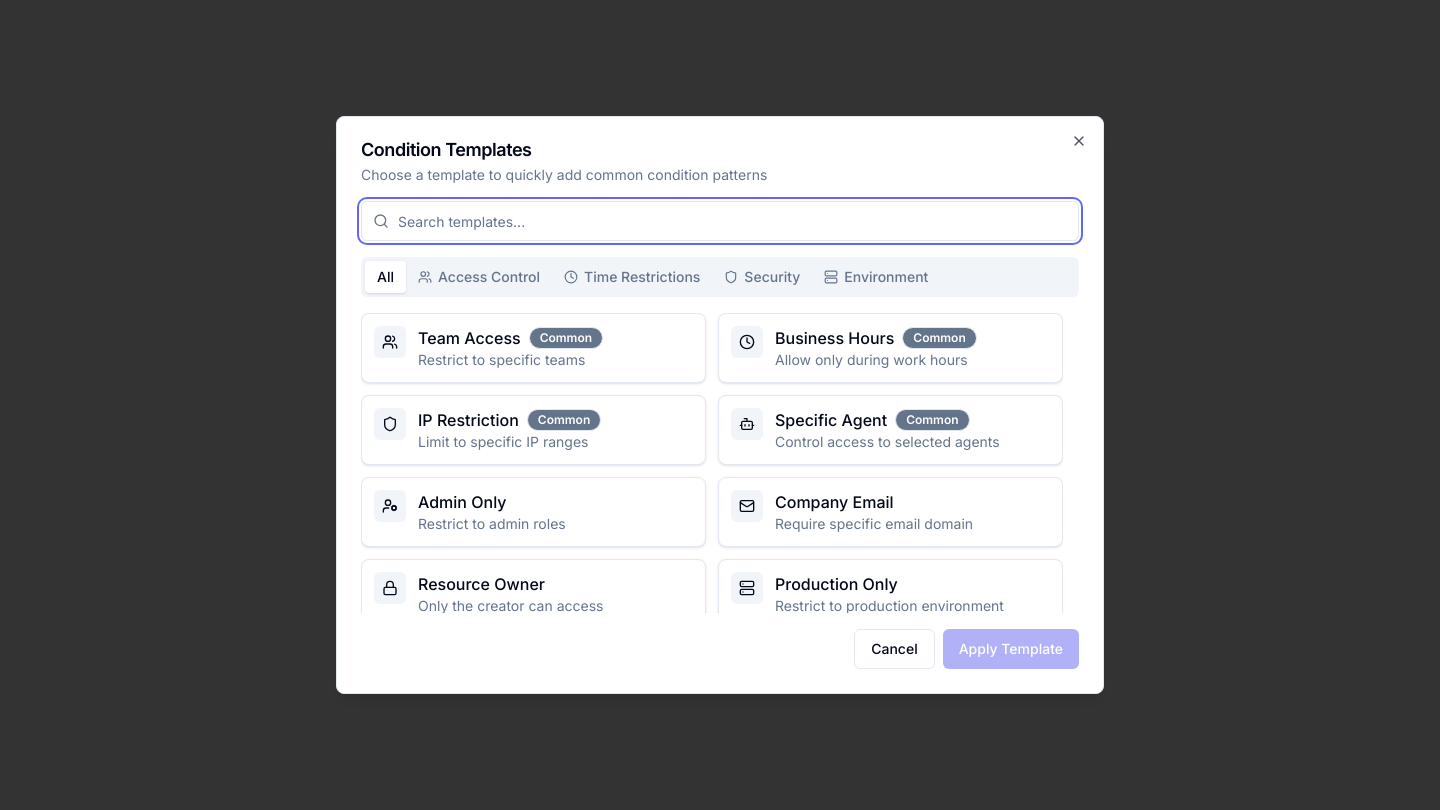
Test: ConditionTemplatesModal › category tab filtering › filters templates by Access Control category
Click the tab "Access Control" at (479, 277), box [406, 261, 552, 293]
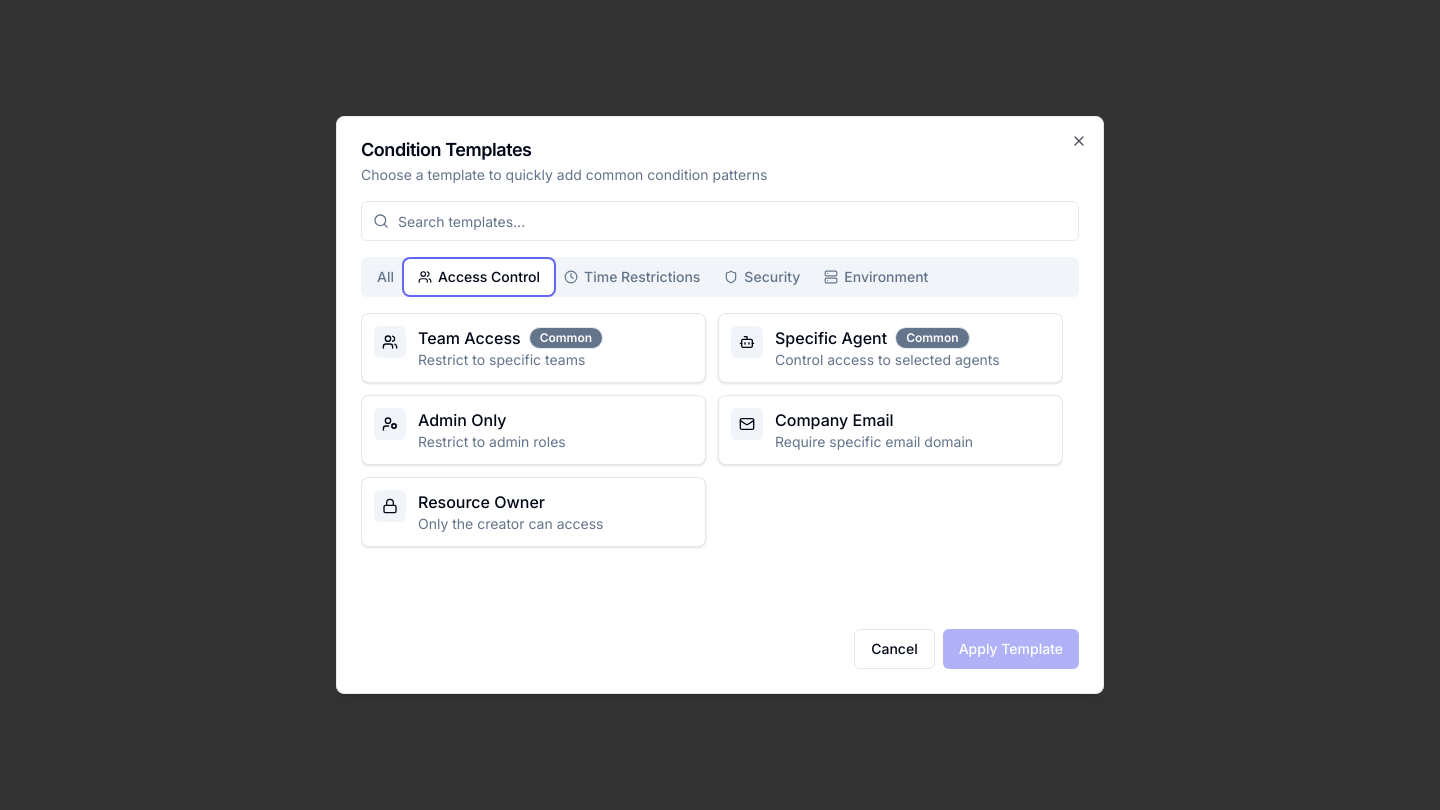
Expected: the text "Business Hours" is gone
Expected: the text "IP Restriction" is gone
Expected: the text "Production Only" is gone
